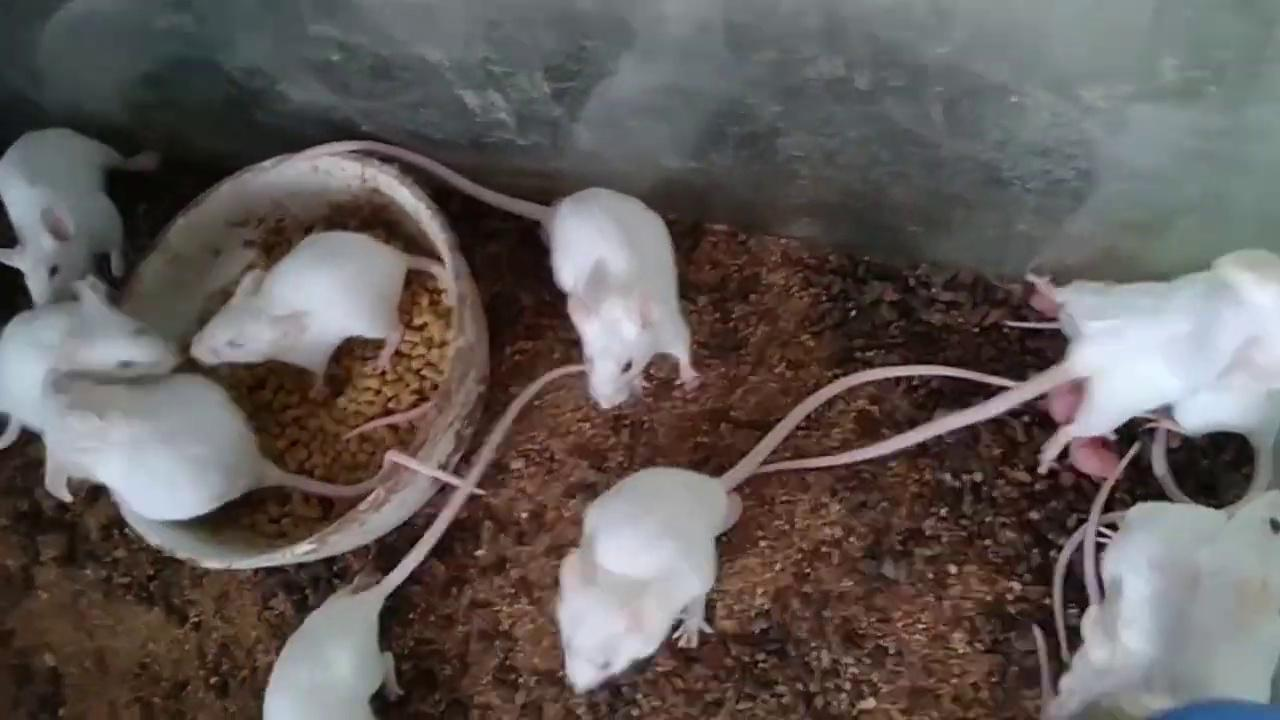rat: (561, 364, 1022, 689), (263, 365, 586, 720), (759, 248, 1280, 467), (277, 140, 701, 406), (43, 370, 485, 521), (190, 230, 449, 401), (0, 128, 155, 307), (1085, 478, 1195, 720), (0, 284, 181, 428), (1204, 491, 1280, 720)
